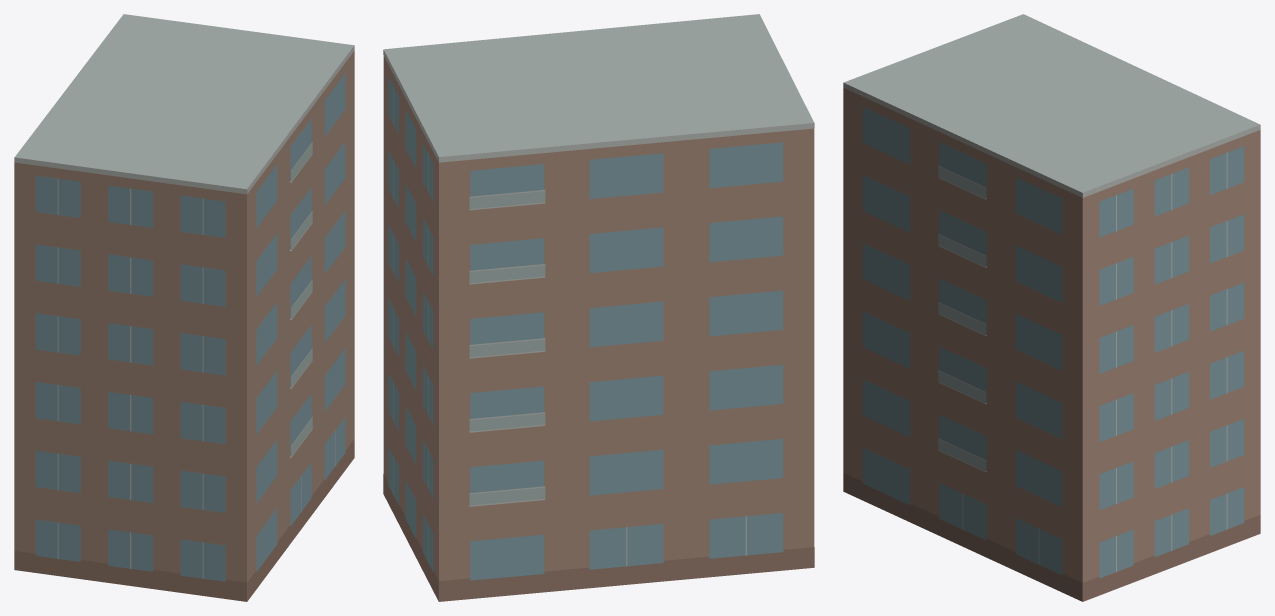
The model's file is survey-upis-32998039.glb.
3 renders of one model, left to right at view 1: azimuth 30°, elevation 25°; view 2: azimuth 150°, elevation 25°; view 3: azimuth 270°, elevation 25°, orthographic. The views are drawn at different scales.
Visible parts, largest first — view 1: survey-upis-32998039.tmp; view 2: survey-upis-32998039.tmp; view 3: survey-upis-32998039.tmp.
Boxes of the visible parts, box(x1,y1,x2,y2) form: survey-upis-32998039.tmp: box(14, 14, 354, 601); survey-upis-32998039.tmp: box(383, 14, 814, 601); survey-upis-32998039.tmp: box(843, 14, 1260, 601).
Size of the model in its own units: 18.59 by 19.8 by 18.32.
